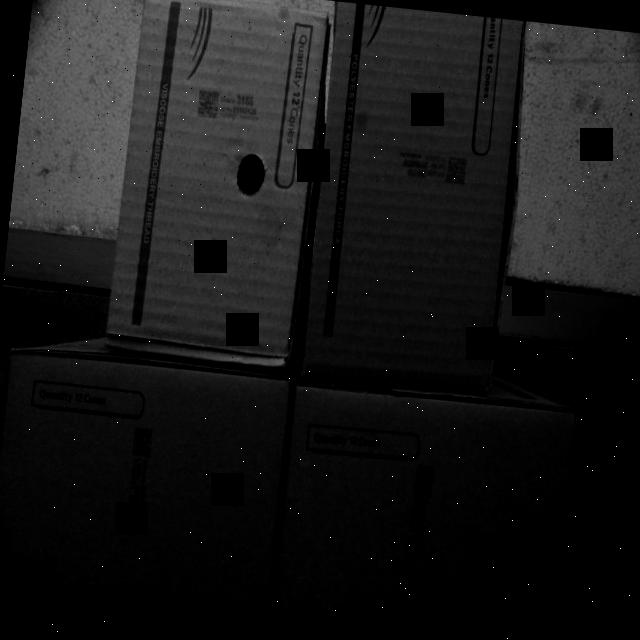box: (290, 0, 531, 395), (103, 0, 327, 371), (0, 351, 289, 635), (269, 377, 578, 640)
